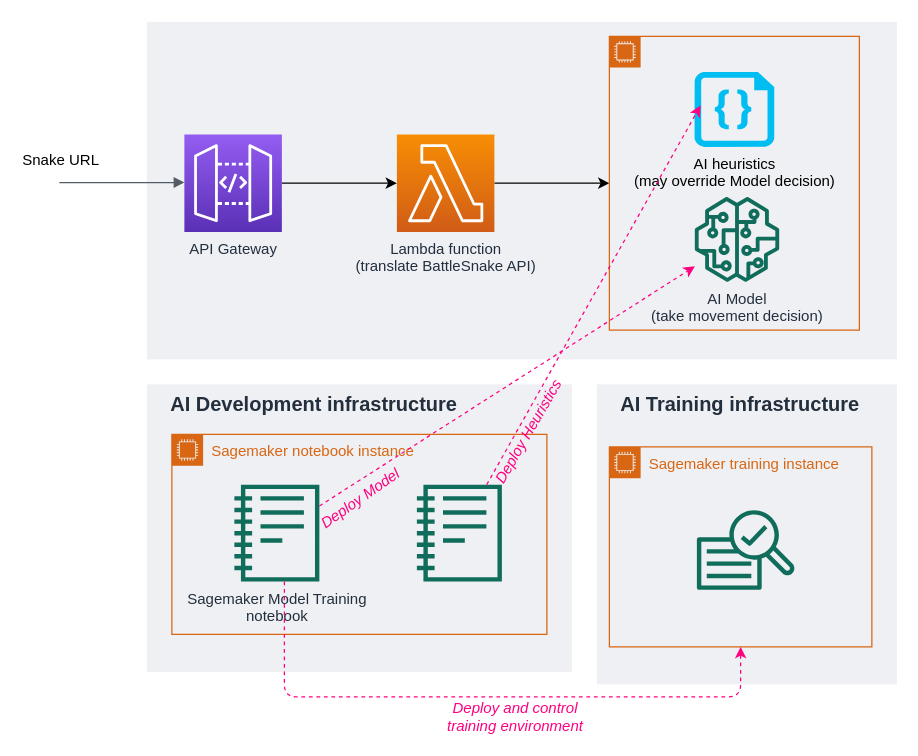
This 918x756 diagram has some shape labels left out. The shapes that lost their labels are listed below. From the top down, each one's box as (x1, y1, x2, y2) in pixels, then its label:
(146, 21, 896, 359): Runtime AI infrastructure
(608, 35, 859, 330): Sagemaker endpoint instance
(416, 484, 501, 581): Heuristics Developer notebook
(696, 509, 794, 590): Train Model
